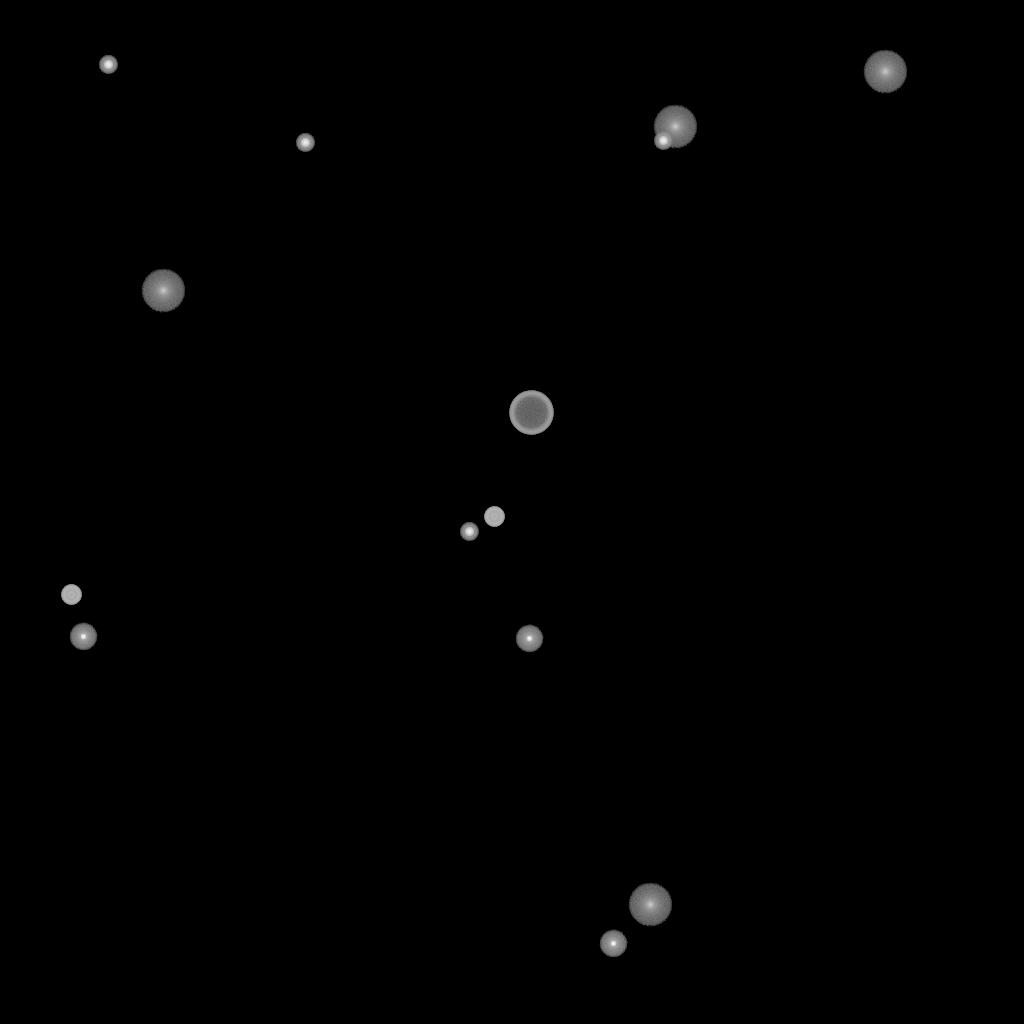depth:-10: (599, 930, 627, 958), (69, 623, 97, 651), (515, 625, 543, 653)
depth:-20: (296, 134, 314, 152), (654, 132, 672, 150), (460, 523, 478, 541), (99, 56, 117, 74)
depth:-40: (484, 507, 504, 527), (61, 585, 81, 605)
depth:-70: (509, 391, 553, 435)
depth:10: (628, 883, 672, 927), (863, 50, 907, 94), (141, 269, 185, 313), (653, 105, 697, 149)
